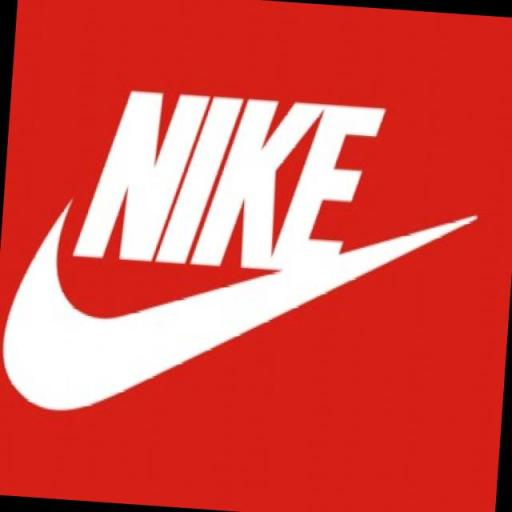Nike: (0, 174, 484, 442), (69, 82, 392, 288)
